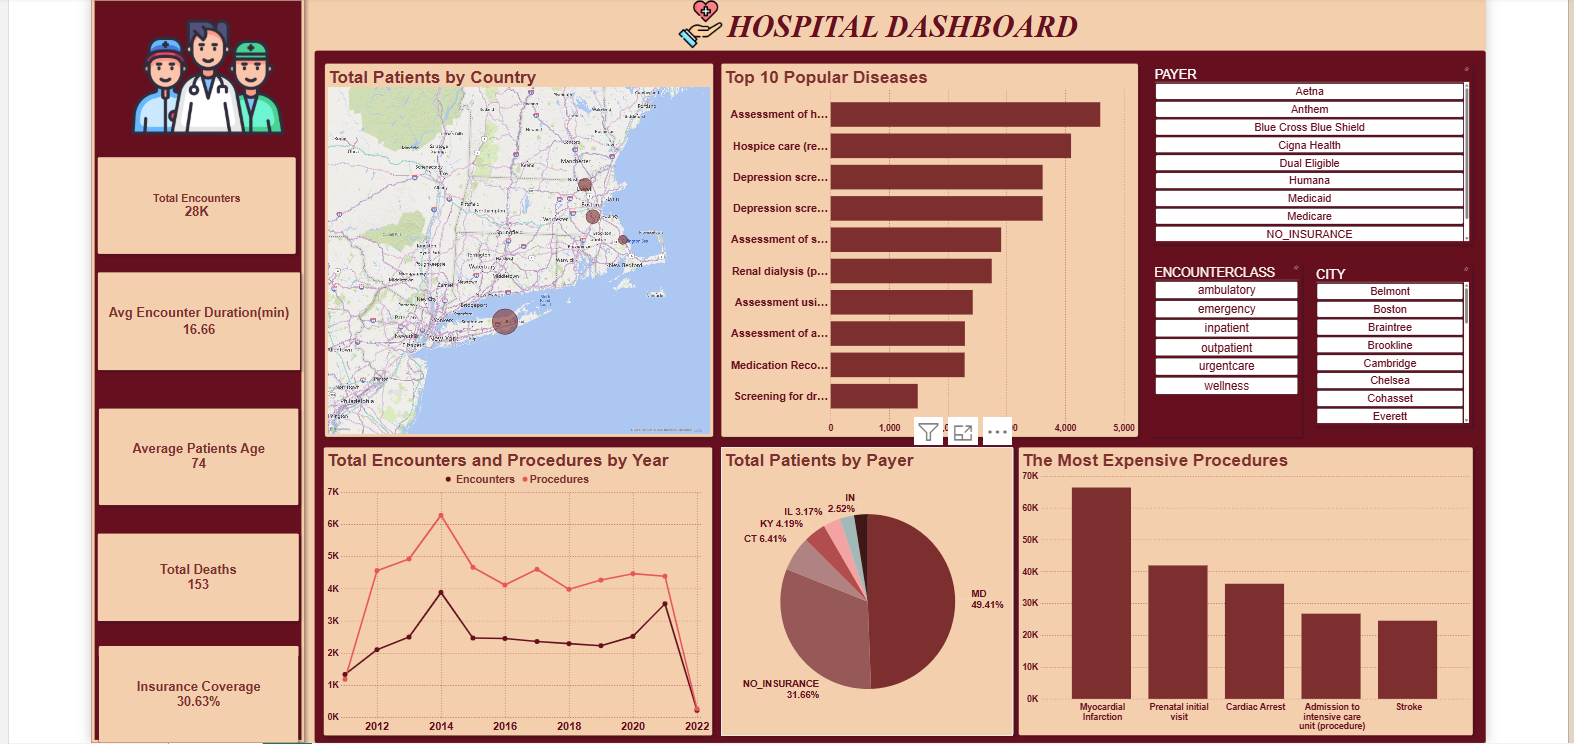

The page's visual inventory and layout, read from the dashboard file:
{"tool":"powerbi","page":{"name":"Page 1","canvas":[4300,2300],"ordinal":0},"visuals":[{"type":"shape","box":[0,0,659.2,2300.3],"z":0},{"type":"shape","box":[691.5,166,3609.5,2134.3],"z":1000},{"type":"textbox","box":[543,35.2,3757.8,164.1],"z":2000},{"type":"image","box":[1718.8,0,320.3,168],"z":3000},{"type":"cardVisual","fields":{"Data":["CountNonNull(encounters.Id)"]},"box":[18.4,493.2,613.1,299.6],"z":4000},{"type":"cardVisual","fields":{"Data":["CountNonNull(patients.Death_State)"]},"box":[18.4,1654.9,622.3,272],"z":5000},{"type":"cardVisual","fields":{"Data":["Avg(encounters.Minutes)"]},"box":[18.4,848.2,626.9,304.2],"z":6000},{"type":"cardVisual","fields":{"Data":["encounters.AVg_insurance_coverage"]},"box":[23,2000.6,617.7,299.6],"z":7000},{"type":"ChicletSlicer1448559807354","fields":{"Category":["encounters.ENCOUNTERCLASS"]},"box":[3268.3,815.9,465.6,539.3],"z":10000},{"type":"ChicletSlicer1448559807354","fields":{"Category":["payers.NAME"]},"box":[3268.3,202.8,991.1,557.8],"z":11000},{"type":"image","box":[78.4,0,567,493.2],"z":12000},{"type":"lineChart","title":"Total Encounters  and Procedures by Year","fields":{"Y":["CountNonNull(encounters.Id)","CountNonNull(procedures.PATIENT)"],"Category":["encounters.startDate.Variation.Date Hierarchy.Year"]},"box":[718.8,1386.7,1199.2,890.6],"z":13000},{"type":"map","title":"Total Patients by Country","fields":{"Size":["CountNonNull(patients.Id)"],"Category":["patients.COUNTY"]},"box":[719.1,202.8,1198.5,1152.4],"z":14000},{"type":"ChicletSlicer1448559807354","fields":{"Category":["patients.CITY"]},"box":[3766.2,820.5,493.2,502.5],"z":15000},{"type":"barChart","title":"Top 10 Popular Diseases","fields":{"Category":["procedures.DESCRIPTION"],"Y":["CountNonNull(procedures.PATIENT)"]},"box":[1940.7,202.8,1286.1,1152.4],"z":16000},{"type":"cardVisual","fields":{"Data":["Avg(patients.Age)"]},"box":[23,1267.7,617.7,299.6],"z":17000},{"type":"pieChart","title":"Total Patients by Payer","fields":{"Y":["CountNonNull(procedures.PATIENT)"],"Category":["payers.STATE_HEADQUARTERED"]},"box":[1940.7,1387.5,903.5,889.7],"z":19000},{"type":"lineStackedColumnComboChart","title":"The Most Expensive Procedures","fields":{"Y":["Avg(encounters.TOTAL_CLAIM_COST)"],"Category":["encounters.DESCRIPTION"]},"box":[2858.1,1387.5,1401.4,889.7],"z":20000}]}

Visuals, with their boxes in screenshot pixels (x1, y1, x2, y2):
shape: BBox(90, 0, 301, 736)
shape: BBox(311, 53, 1466, 736)
textbox: BBox(264, 11, 1466, 64)
image: BBox(640, 0, 742, 54)
cardVisual - CountNonNull(encounters.Id): BBox(96, 158, 292, 254)
cardVisual - CountNonNull(patients.Death_State): BBox(96, 529, 295, 616)
cardVisual - Avg(encounters.Minutes): BBox(96, 271, 297, 369)
cardVisual - encounters.AVg_insurance_coverage: BBox(98, 640, 295, 736)
ChicletSlicer1448559807354 - encounters.ENCOUNTERCLASS: BBox(1136, 261, 1285, 433)
ChicletSlicer1448559807354 - payers.NAME: BBox(1136, 65, 1453, 243)
image: BBox(115, 0, 297, 158)
"Total Encounters  and Procedures by Year" lineChart: BBox(320, 444, 704, 728)
"Total Patients by Country" map: BBox(320, 65, 704, 433)
ChicletSlicer1448559807354 - patients.CITY: BBox(1295, 262, 1453, 423)
"Top 10 Popular Diseases" barChart: BBox(711, 65, 1122, 433)
cardVisual - Avg(patients.Age): BBox(98, 405, 295, 501)
"Total Patients by Payer" pieChart: BBox(711, 444, 1000, 728)
"The Most Expensive Procedures" lineStackedColumnComboChart: BBox(1004, 444, 1453, 728)
